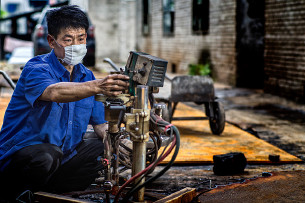face_mask: (55, 26, 87, 64)
